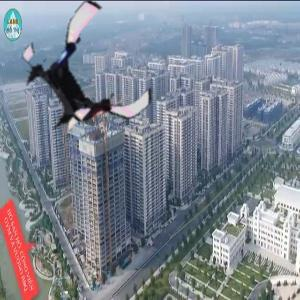drone: (20, 9, 158, 147)
